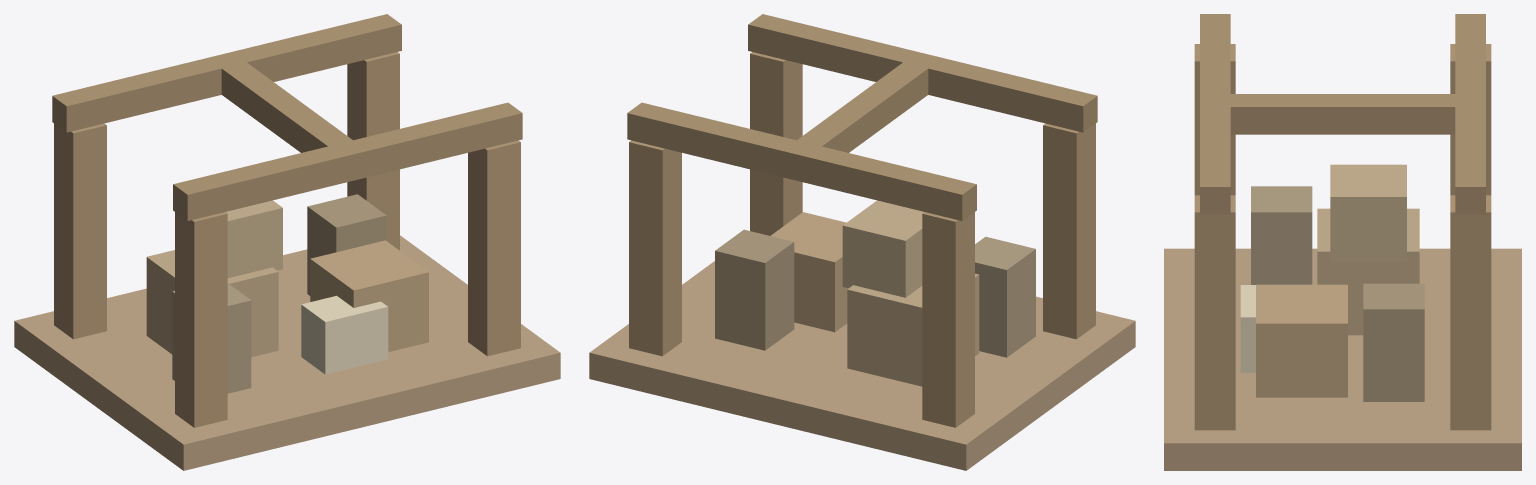
File: stockpile.glb
The picture shows the model from 3 angles, left to right: view 1: azimuth 30°, elevation 25°; view 2: azimuth 150°, elevation 25°; view 3: azimuth 270°, elevation 25°; orthographic projection. The views are drawn at different scales.
Parts seen in each view (by area): view 1: Stockpile; view 2: Stockpile; view 3: Stockpile.
Boxes of the visible parts, bbox=[...] form: Stockpile: bbox=[14, 14, 560, 470]; Stockpile: bbox=[589, 14, 1135, 470]; Stockpile: bbox=[1164, 14, 1521, 470].
Bounding box in the file's own units: 0.9 × 0.59 × 0.7.
